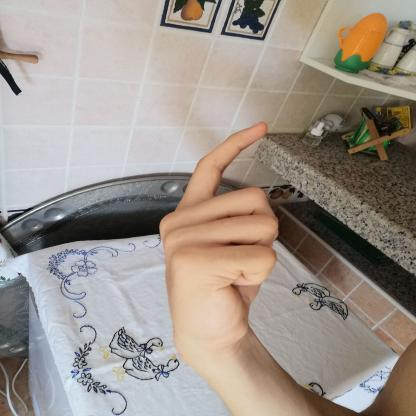RAA: (147, 110, 291, 364)
